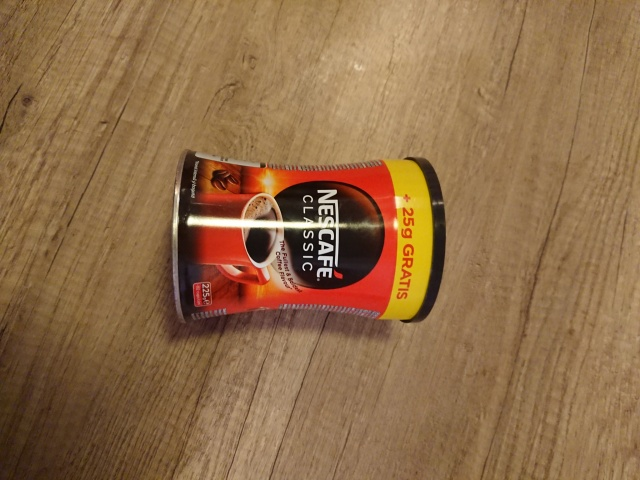Nescafe Classic 225g: (167, 145, 450, 329)
